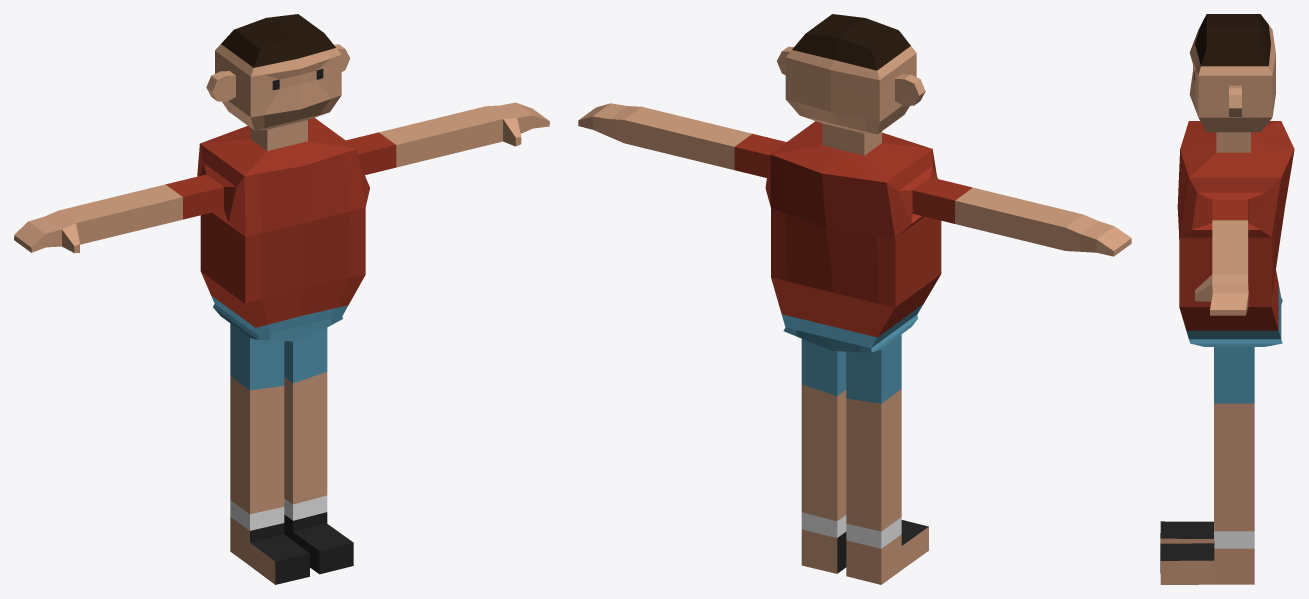
File: human.glb
3 views of the same model, side by side, from view 1: azimuth 30°, elevation 25°; view 2: azimuth 150°, elevation 25°; view 3: azimuth 270°, elevation 25° (orthographic). The views are drawn at different scales.
Parts seen in each view (by area): view 1: Cube; view 2: Cube; view 3: Cube.
Part boxes in pixels (x1,y1,x2,y2): Cube: [14, 14, 549, 584]; Cube: [578, 14, 1131, 584]; Cube: [1160, 14, 1294, 584].
Bounding box in the file's own units: 4.35 × 4.19 × 0.945.
1 material, 1 textured.
